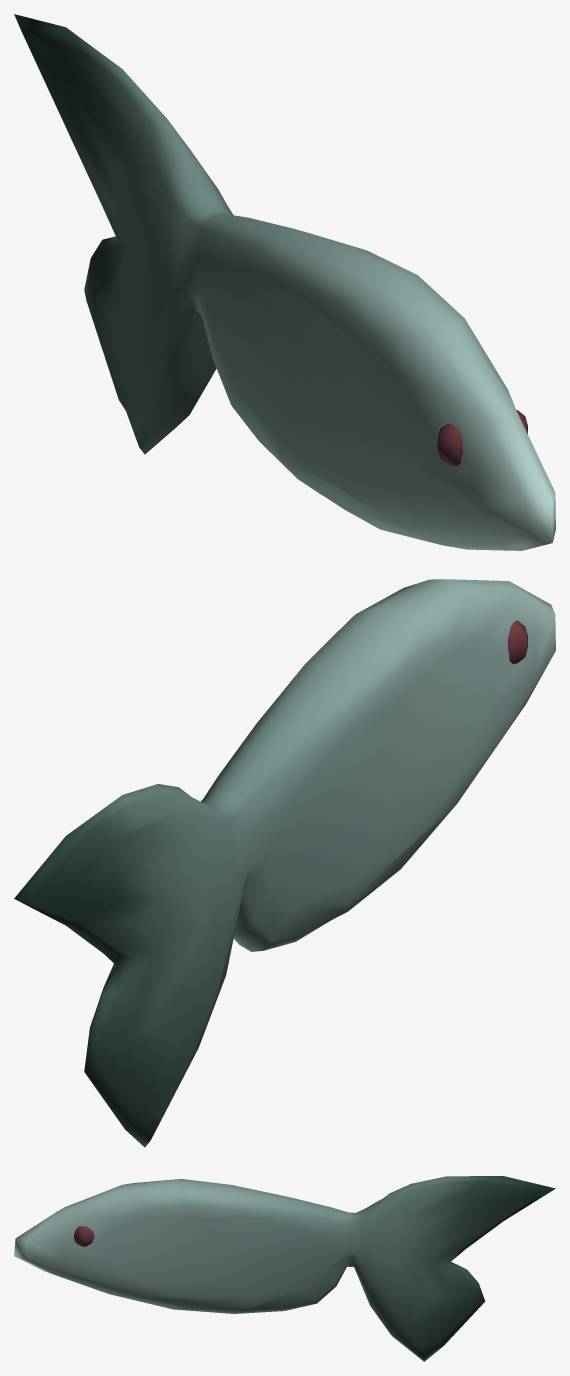
File: FIsh_big.fbx
3 views of the same model, one above another, from view 1: azimuth 30°, elevation 25°; view 2: azimuth 150°, elevation 25°; view 3: azimuth 270°, elevation 25° (orthographic). The views are drawn at different scales.
Parts seen in each view (by area): view 1: fish_big_body, eye_fishbig; view 2: fish_big_body, eye_fishbig; view 3: fish_big_body, eye_fishbig_left.
Boxes of the visible parts, bbox=[...] form: fish_big_body: bbox=[14, 14, 555, 550]; eye_fishbig: bbox=[437, 423, 462, 466]; fish_big_body: bbox=[14, 579, 555, 1147]; eye_fishbig: bbox=[507, 620, 527, 664]; fish_big_body: bbox=[14, 1176, 555, 1361]; eye_fishbig_left: bbox=[74, 1226, 94, 1246].
Bounding box in the file's own units: 0.9126 × 3.56 × 9.4.
Materials: 1 (1 with a texture image).
